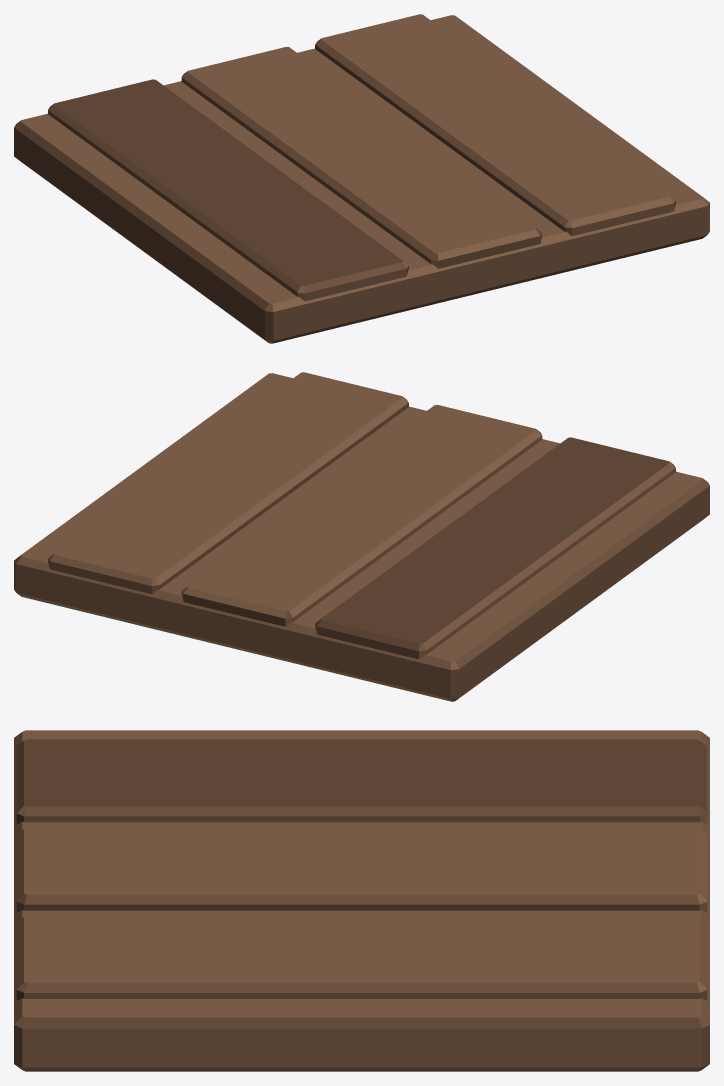
Rendered from farm-tilled-soil.glb.
3 views of the same model, one above another, from view 1: azimuth 30°, elevation 25°; view 2: azimuth 150°, elevation 25°; view 3: azimuth 270°, elevation 25° (orthographic). The views are drawn at different scales.
Visible parts, largest first — view 1: farm-tilled-soil; view 2: farm-tilled-soil; view 3: farm-tilled-soil.
Part boxes in pixels (x1=…): farm-tilled-soil: x1=14, y1=14, x2=709, y2=343; farm-tilled-soil: x1=14, y1=372, x2=709, y2=701; farm-tilled-soil: x1=14, y1=730, x2=709, y2=1071.
Size of the model in its own units: 1 by 0.106 by 1.
